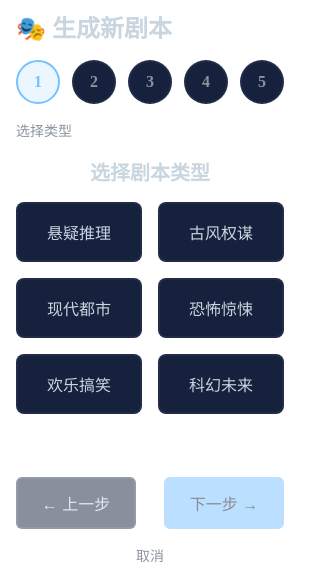
ScriptGenerateWizard › Step 3 - Player Count › renders step 3 player count when navigated
# Navigate to step 2
Click the button "悬疑推理".
click(79, 232)  # box [16,202,142,262]
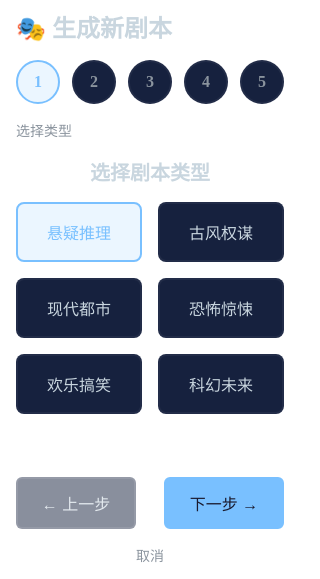
Click the button "下一步 →".
click(224, 503)  # box [164,477,284,529]
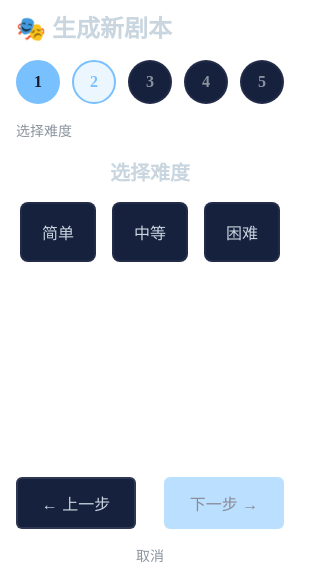
# Navigate to step 3
Click the button "简单".
click(58, 232)  # box [20,202,96,262]
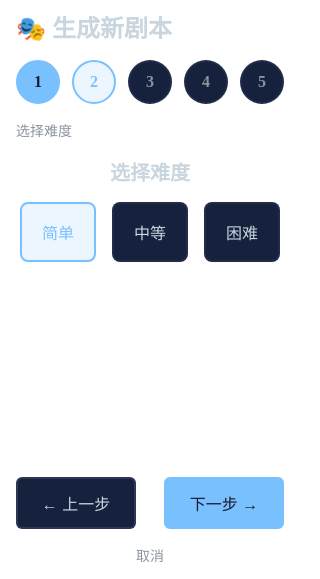
Click the button "下一步 →".
click(224, 503)  # box [164,477,284,529]
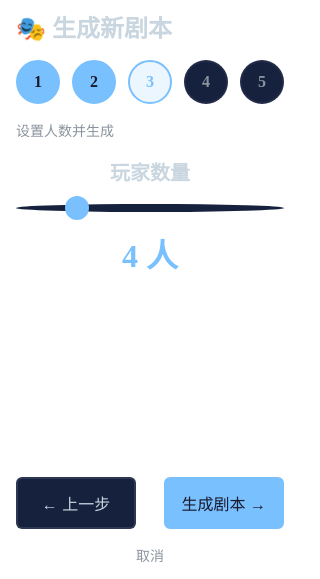
Check: the heading "玩家数量" is shown, box [110,162,190,184]
Check: the slider is shown, box [16,204,284,212]
